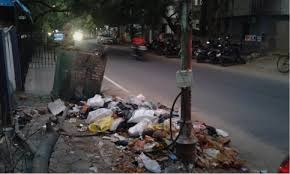garbage: (88, 95, 171, 146), (49, 99, 174, 118), (195, 127, 233, 167)
